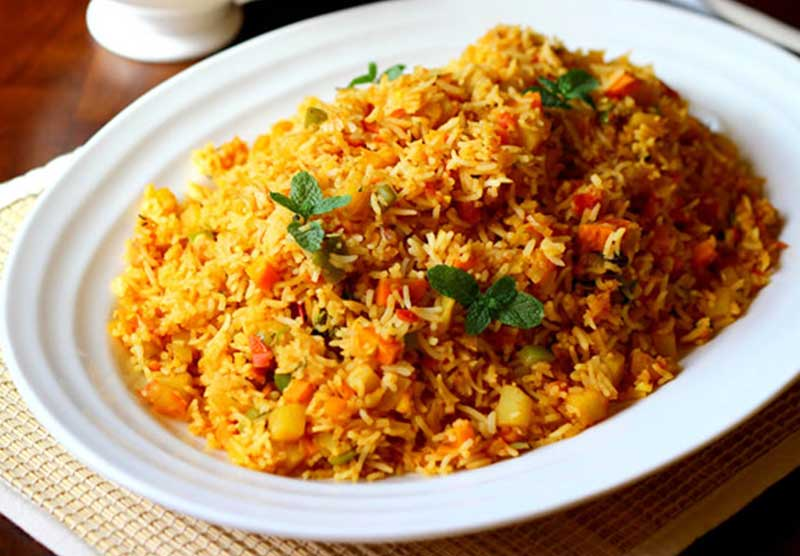khichuri: (149, 41, 745, 469)
